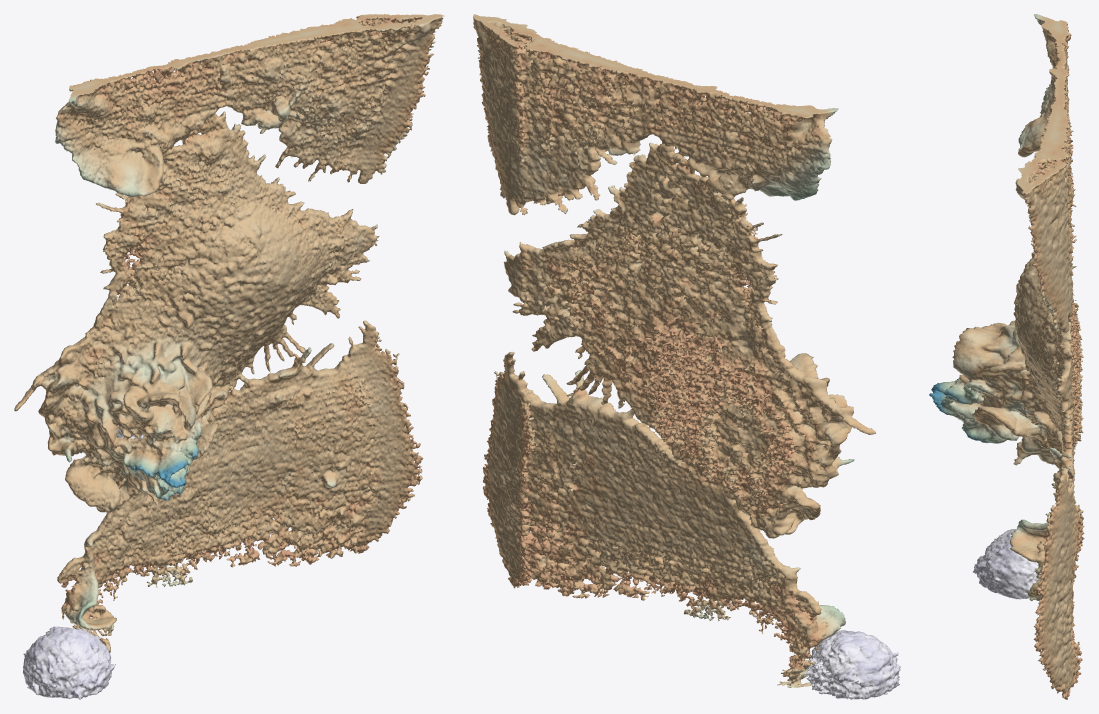
The model's file is Surfaces_15.glb.
3 views of the same model, side by side, from view 1: azimuth 30°, elevation 25°; view 2: azimuth 150°, elevation 25°; view 3: azimuth 270°, elevation 25° (orthographic).
Parts seen in each view (by area): view 1: surface (×2); view 2: surface (×2); view 3: surface (×2).
Boxes of the visible parts, x1,y1,x2,y2 form: surface (×2): (14,14,444,699); surface (×2): (473,14,900,699); surface (×2): (929,14,1084,699).
Size of the model in its own units: 582 by 764 by 188.
